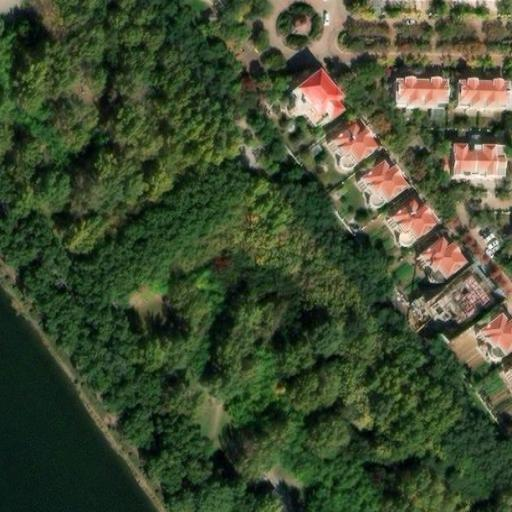building: (284, 73, 339, 130), (352, 162, 404, 215), (464, 310, 512, 367), (436, 271, 487, 323), (323, 125, 374, 176), (415, 237, 465, 287), (385, 204, 433, 252), (448, 148, 503, 180), (397, 77, 450, 107), (461, 78, 512, 107), (289, 11, 313, 39), (498, 366, 512, 395)
